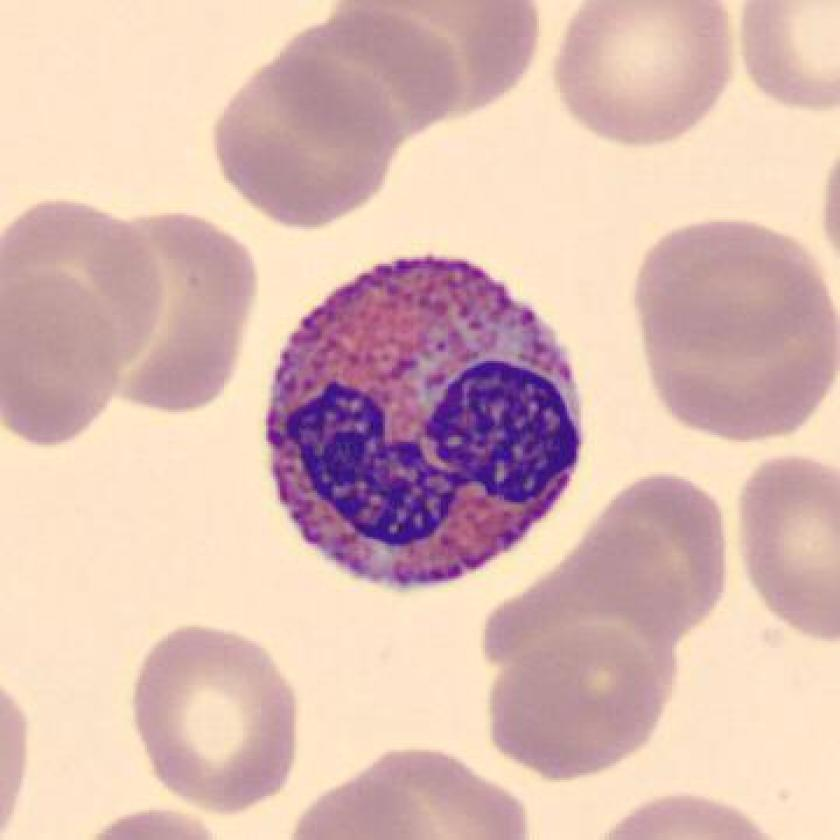eosinophil: (255, 247, 596, 601)
